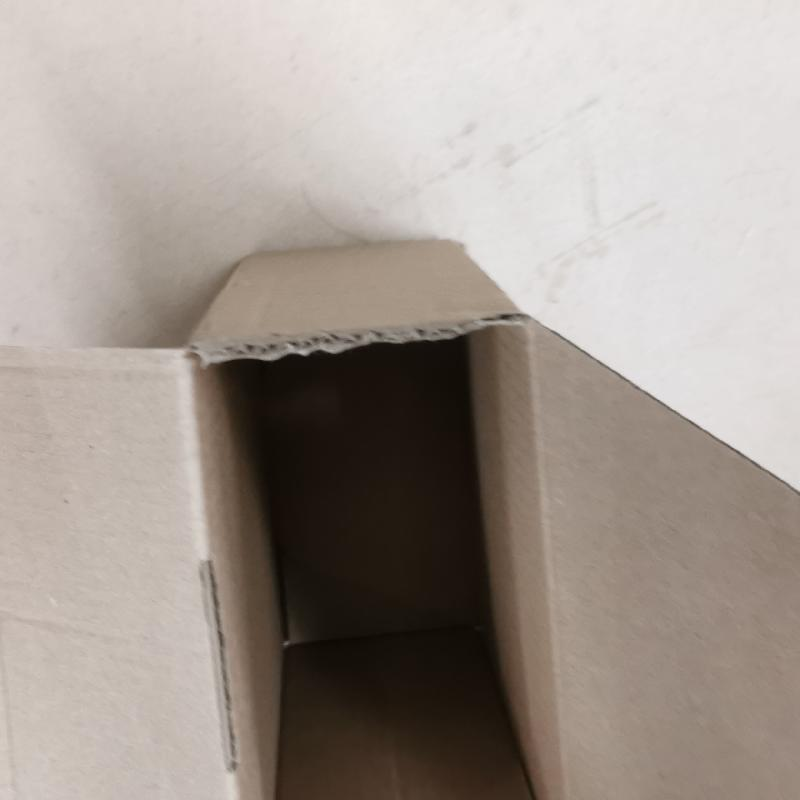boxes: (0, 236, 799, 799)
